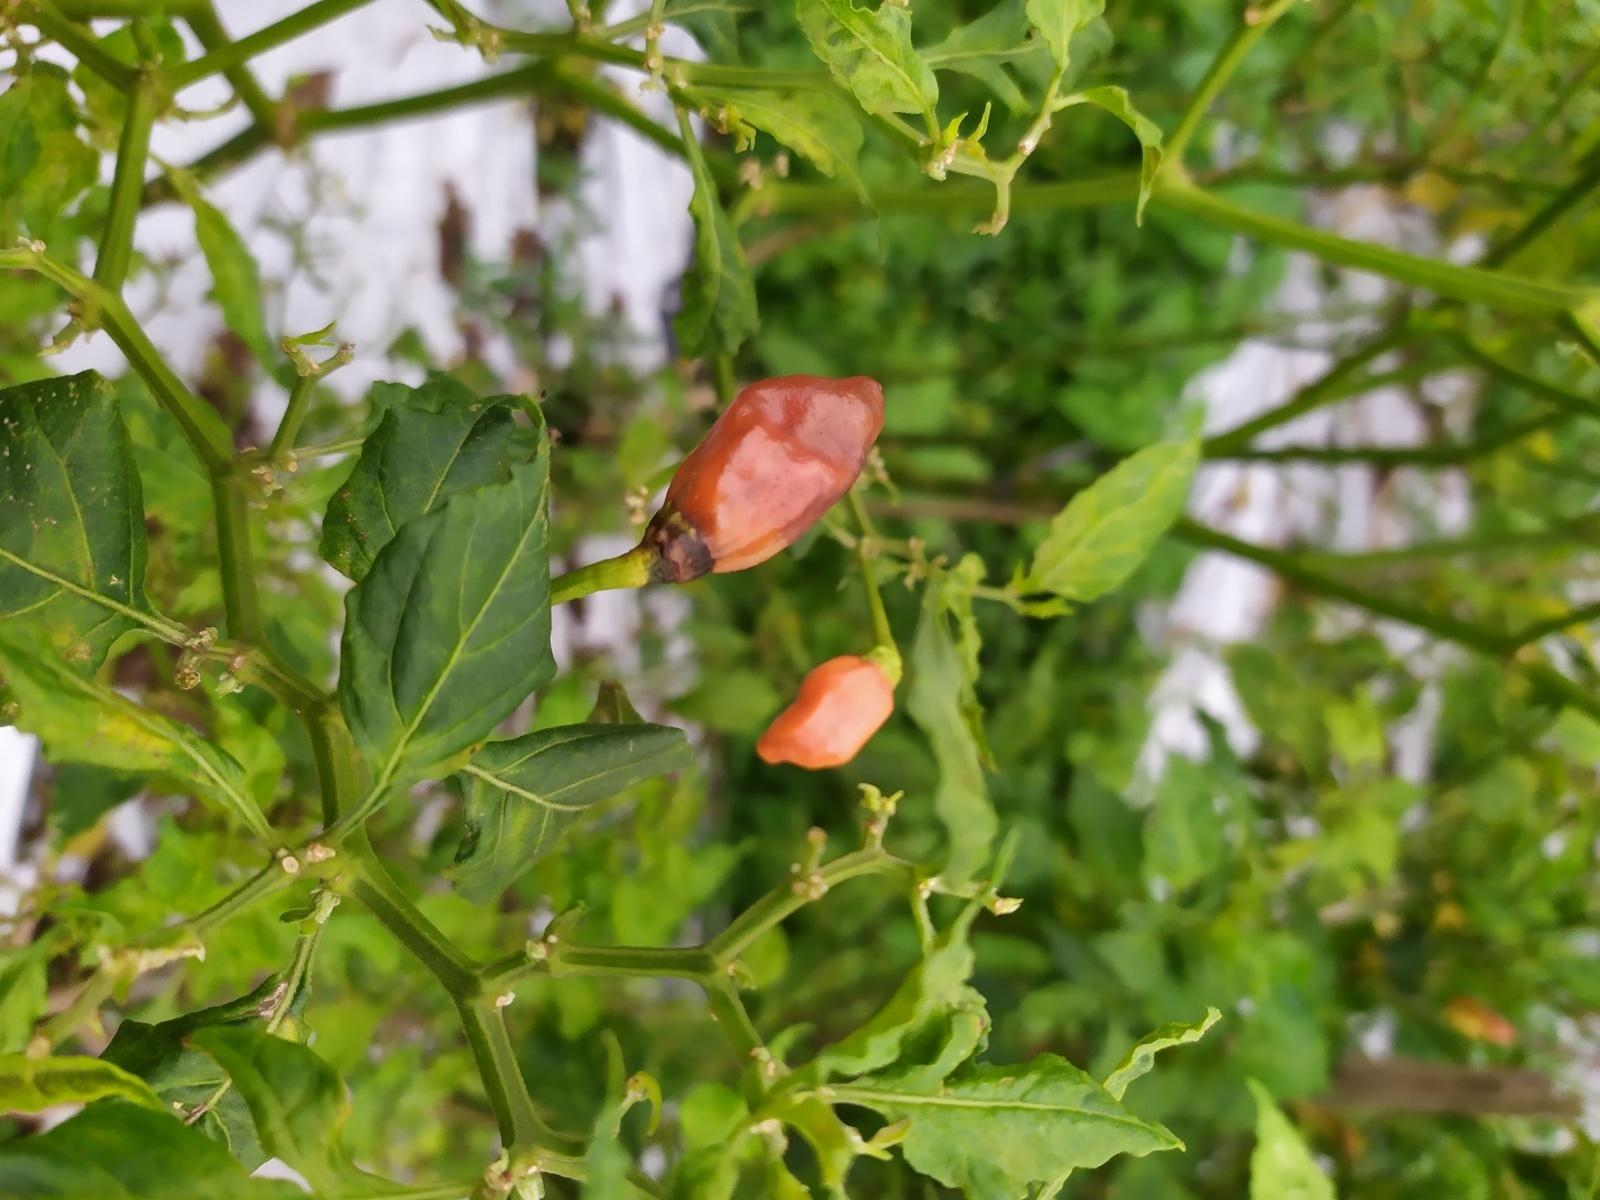cabai_normal: (757, 655, 894, 770)
lalat_buah: (643, 372, 886, 581)
